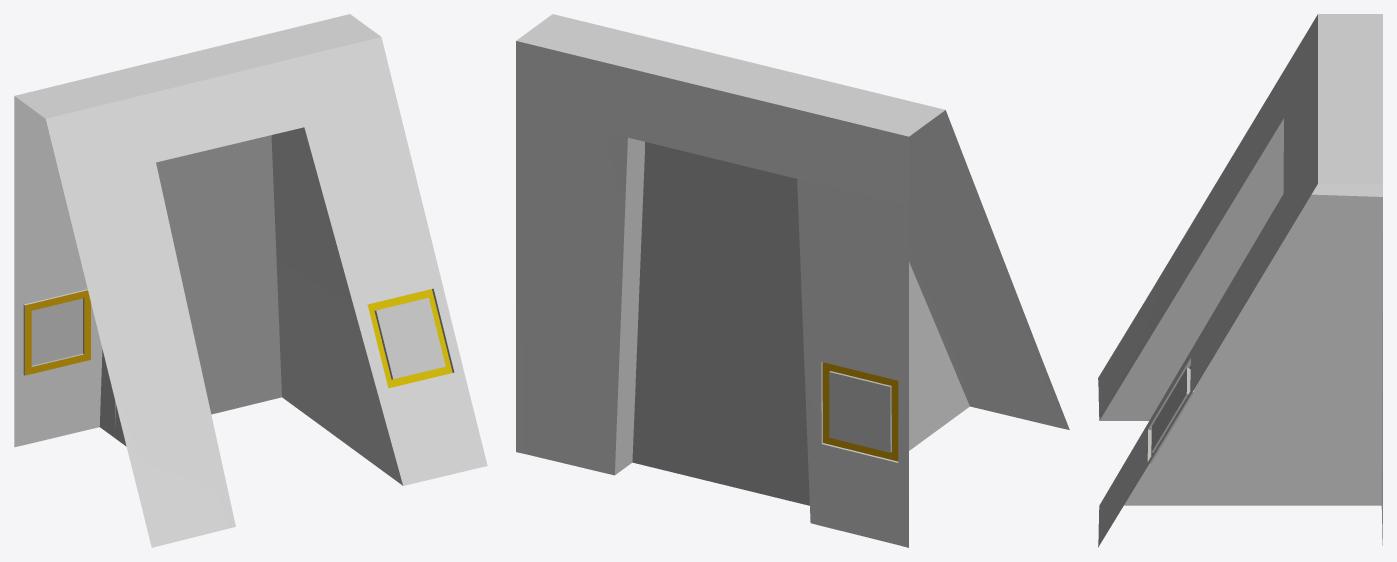
Rendered from Door_Slope.fbx.
The picture shows the model from 3 angles, left to right: view 1: azimuth 30°, elevation 25°; view 2: azimuth 150°, elevation 25°; view 3: azimuth 270°, elevation 25°; orthographic projection. The views are drawn at different scales.
Visible parts, largest first — view 1: Frame, Hologram, Control_Panel_front, Control_panel_back; view 2: Frame, Hologram, Control_panel_back; view 3: Frame, Control_Panel_front.
Boxes of the visible parts, x1=… form: Frame: x1=14, y1=14, x2=487, y2=547; Hologram: x1=114, y1=135, x2=281, y2=437; Control_Panel_front: x1=367, y1=288, x2=454, y2=388; Control_panel_back: x1=25, y1=290, x2=90, y2=375; Frame: x1=516, y1=14, x2=1069, y2=547; Hologram: x1=632, y1=142, x2=809, y2=505; Control_panel_back: x1=822, y1=362, x2=898, y2=461; Frame: x1=1098, y1=14, x2=1382, y2=547; Control_Panel_front: x1=1147, y1=358, x2=1194, y2=463.
Bounding box in the file's own units: 500 × 500 × 355.
